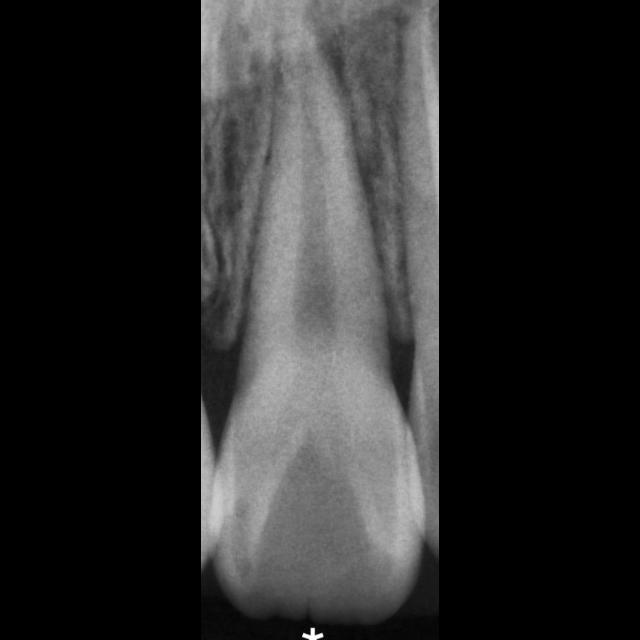tooth: (207, 32, 429, 627)
